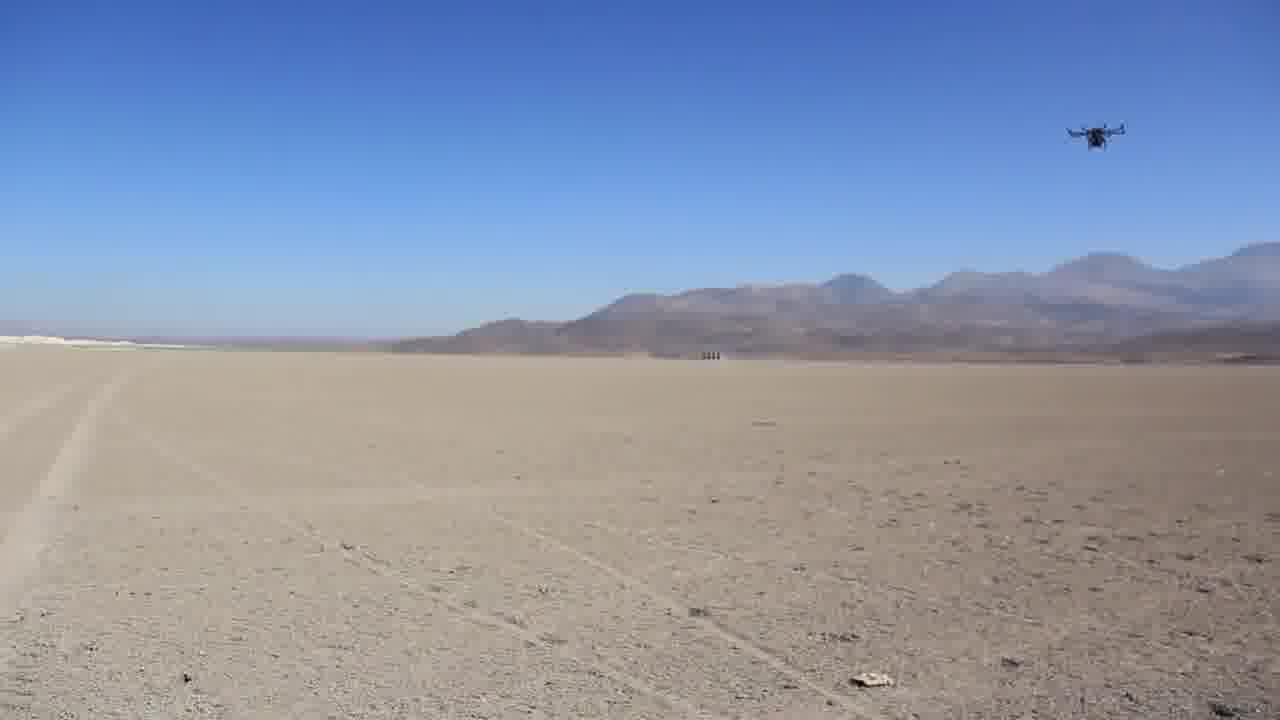Drone: (1057, 113, 1136, 160)
